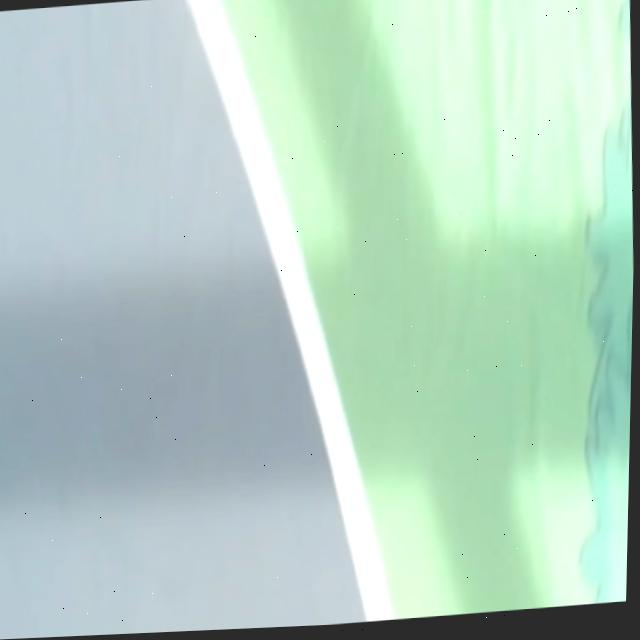right: (186, 0, 393, 621)
